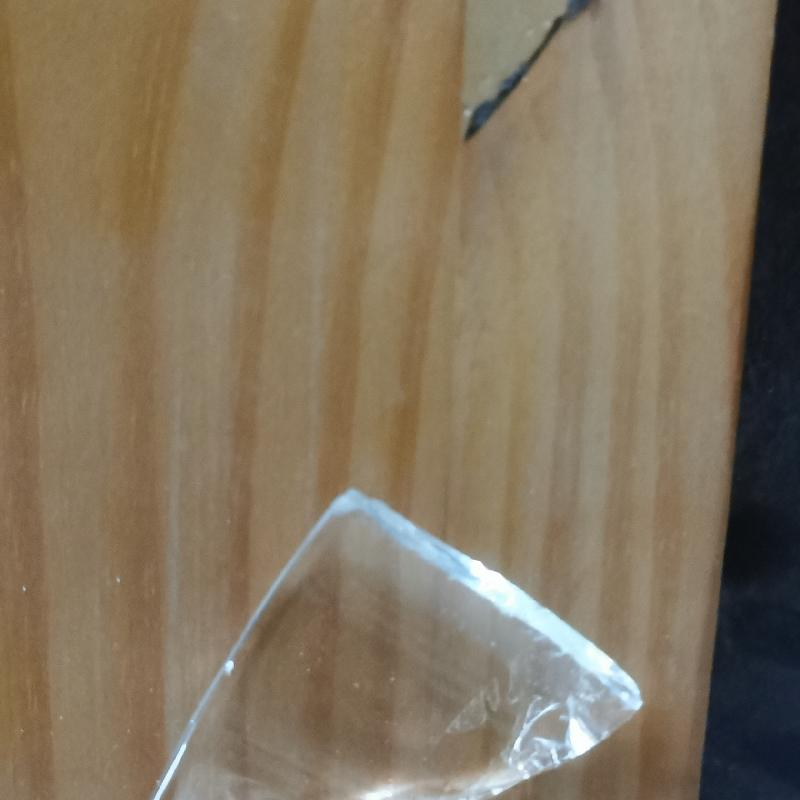glass: (137, 488, 641, 799)
